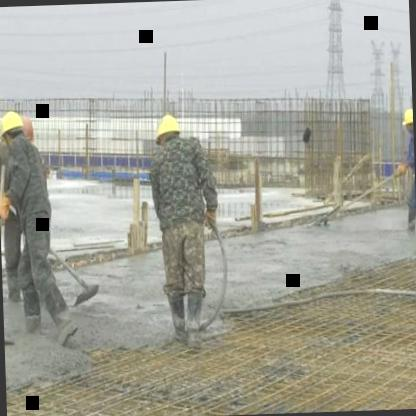helmet: (152, 110, 184, 155), (0, 109, 29, 152), (402, 105, 414, 138)
